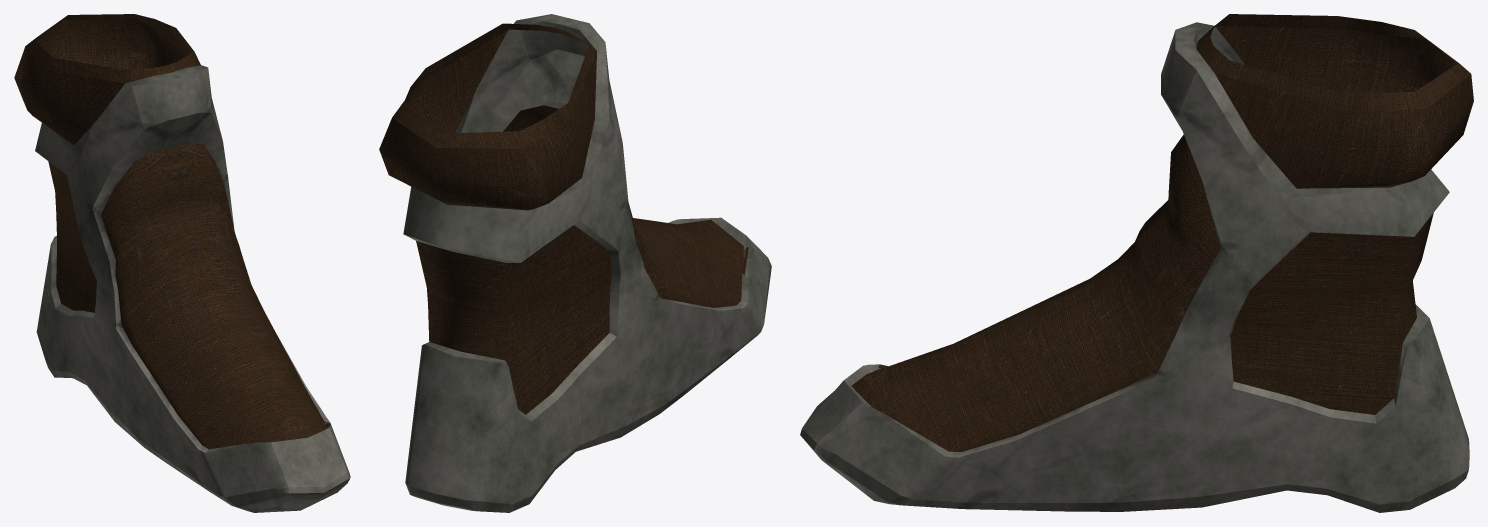
Rendered from leather_boots.glb.
The picture shows the model from 3 angles, left to right: view 1: azimuth 30°, elevation 25°; view 2: azimuth 150°, elevation 25°; view 3: azimuth 270°, elevation 25°; orthographic projection. The views are drawn at different scales.
Visible parts, largest first — view 1: leather_boots; view 2: leather_boots; view 3: leather_boots.
Part boxes in pixels (left/top/right/bottom): leather_boots: left=14, top=14, right=350, bottom=512; leather_boots: left=379, top=14, right=771, bottom=512; leather_boots: left=800, top=14, right=1473, bottom=512.
Bounding box in the file's own units: 0.0844 × 0.1993 × 0.2703.
1 material, 1 textured.
